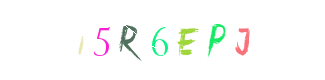5: (88, 0, 168, 80)
6: (128, 0, 208, 80)
E: (145, 0, 225, 80)
I: (63, 0, 143, 80)
J: (204, 0, 284, 80)
P: (152, 0, 232, 80)
R: (121, 0, 201, 80)
